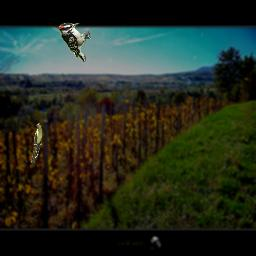Cuckoo: (31, 123, 42, 163)
Woodpecker: (59, 22, 91, 62)
